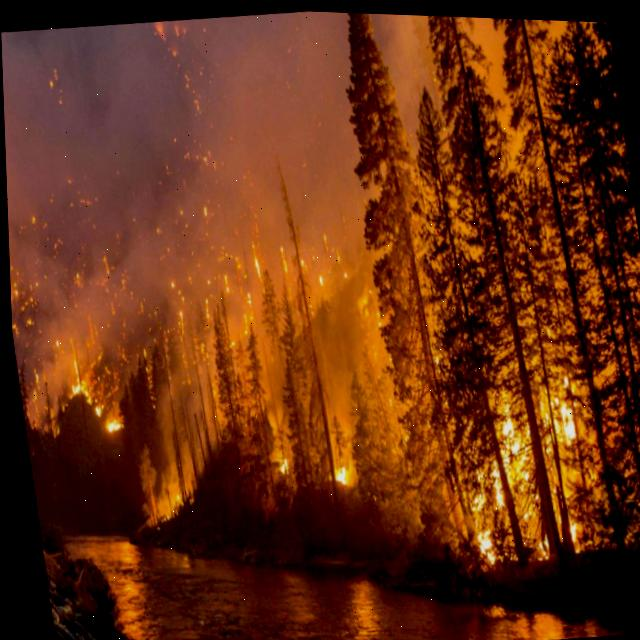fire: (68, 378, 119, 442), (465, 492, 497, 561), (495, 408, 524, 481), (547, 386, 575, 445), (485, 466, 502, 512), (327, 457, 349, 491)
smoke: (1, 9, 380, 378), (375, 11, 442, 110)
